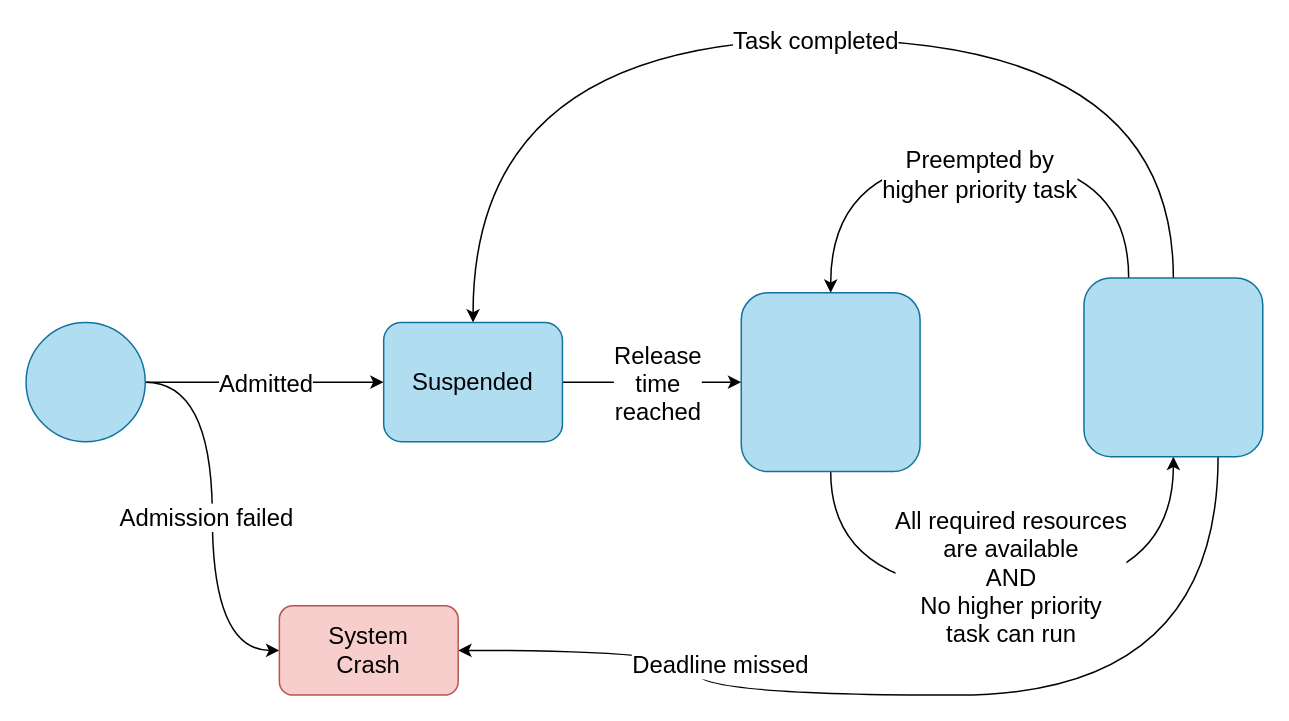
This 1289x721 diagram has some shape labels left out. The box of each missing label's shape, as (x1, y1, x2, y2) in pixels:
Executing: (1082, 276, 1263, 457)
Released (still suspended): (740, 291, 920, 472)
